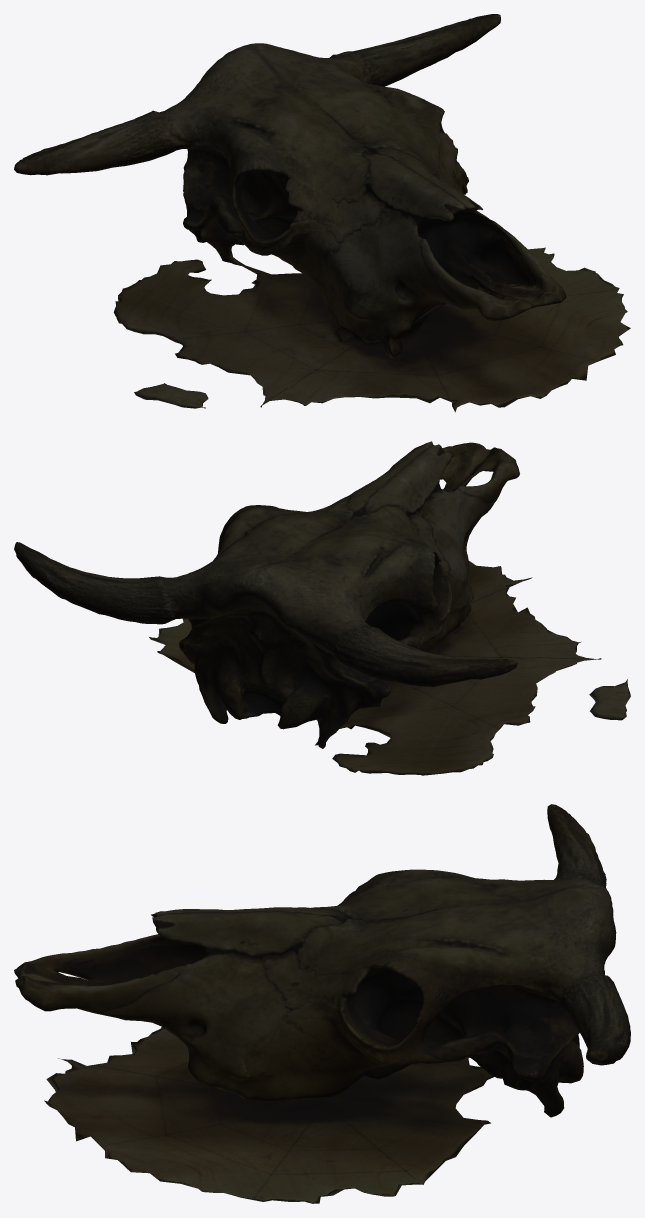
The picture shows the model from 3 angles, top to bottom: view 1: azimuth 30°, elevation 25°; view 2: azimuth 150°, elevation 25°; view 3: azimuth 270°, elevation 25°; orthographic projection. The views are drawn at different scales.
Parts seen in each view (by area): view 1: Node1; view 2: Node1; view 3: Node1.
Part boxes in pixels (x1,y1,x2,y2): Node1: (14,14,630,412); Node1: (14,441,630,775); Node1: (14,804,630,1203).
Bounding box in the file's own units: 0.5248 × 0.2004 × 0.5125.
Materials: 1 (1 with a texture image).
